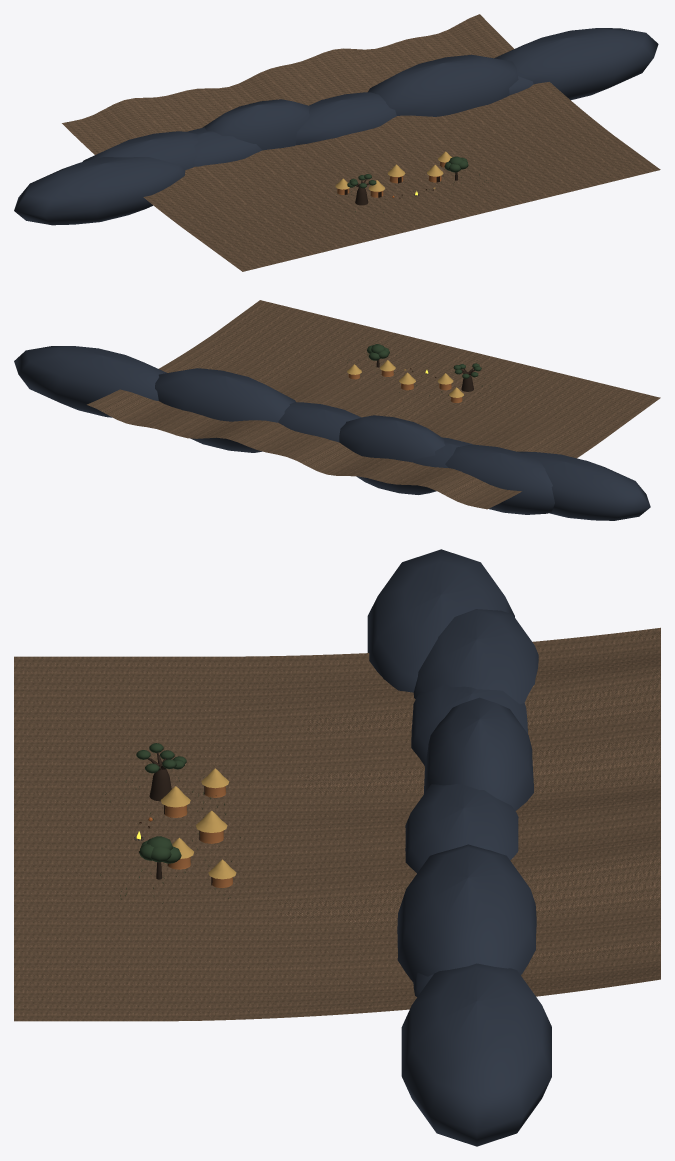
File: veillee.glb
3 renders of one model, top to bottom at view 1: azimuth 30°, elevation 25°; view 2: azimuth 150°, elevation 25°; view 3: azimuth 270°, elevation 25°, orthographic. The views are drawn at different scales.
Visible parts, largest first — view 1: sol, decor; view 2: sol, decor; view 3: sol, decor.
Part boxes in pixels (x1,y1,x2,y2): sol: (62,14,660,271); decor: (14,28,658,225); sol: (87,300,660,509); decor: (14,344,650,520); sol: (14,627,660,1021); decor: (100,549,551,1146).
Bounding box in the file's own units: 188 × 19.8 × 90.
Materials: 14 (1 with a texture image).
